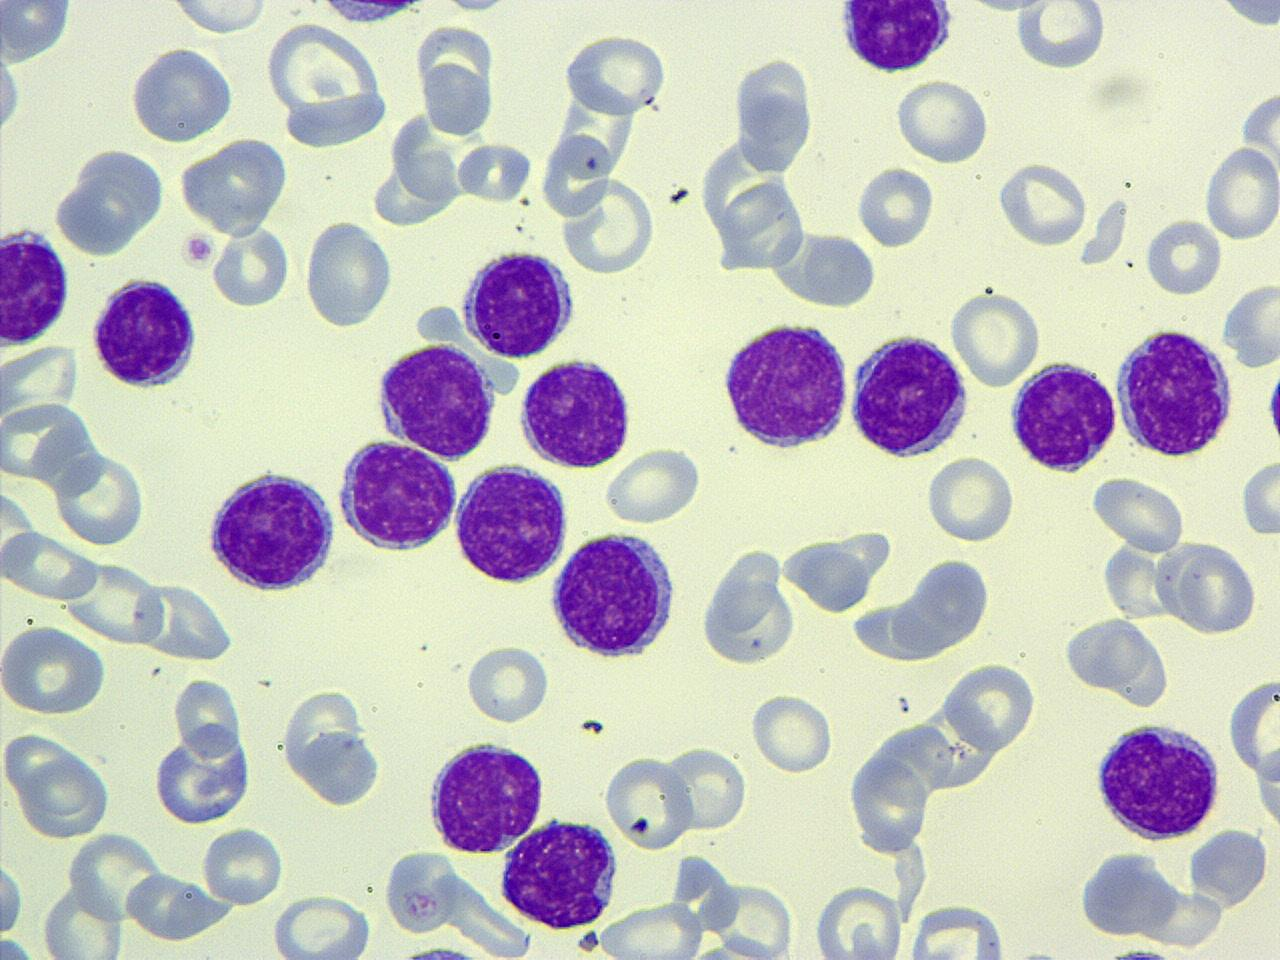Platelets: (180, 228, 217, 269), (400, 941, 472, 960), (1264, 364, 1280, 447), (0, 932, 38, 960), (1107, 942, 1165, 960), (1016, 941, 1062, 960), (578, 929, 602, 953)
RBC: (822, 0, 1280, 361), (264, 14, 392, 148), (282, 678, 391, 810), (700, 544, 804, 662), (176, 134, 293, 238), (126, 42, 242, 146), (730, 53, 818, 176), (0, 622, 110, 719), (302, 218, 396, 329), (560, 172, 658, 277), (415, 17, 498, 137), (946, 287, 1044, 388), (65, 828, 164, 926), (560, 29, 670, 118), (60, 555, 167, 645), (134, 575, 238, 665), (943, 658, 1040, 754), (52, 450, 148, 547), (711, 182, 810, 274), (600, 752, 692, 851), (846, 750, 928, 856), (925, 452, 1017, 545), (894, 75, 988, 164), (994, 159, 1090, 247), (602, 445, 703, 526), (1087, 472, 1187, 553), (18, 753, 112, 839), (1176, 541, 1260, 636), (1201, 141, 1280, 243), (663, 742, 750, 833), (0, 398, 94, 481), (463, 640, 552, 725), (853, 162, 939, 249), (812, 880, 906, 960), (1186, 824, 1272, 911), (382, 846, 462, 938), (750, 690, 834, 776), (200, 824, 284, 908), (211, 221, 291, 309), (0, 530, 99, 602), (712, 878, 797, 960), (539, 128, 613, 223), (271, 892, 376, 958), (1226, 670, 1280, 790), (596, 899, 703, 960), (39, 884, 124, 960), (171, 674, 245, 760), (1142, 217, 1222, 296), (1012, 2, 1109, 68), (906, 901, 1010, 960), (1, 341, 83, 416), (1, 728, 78, 802), (1221, 277, 1280, 371), (456, 137, 534, 204), (1, 1, 79, 67), (165, 0, 274, 39), (1238, 454, 1280, 541), (0, 484, 37, 582), (0, 34, 24, 154), (0, 849, 25, 939), (1212, 0, 1280, 30)
WBC: (546, 525, 684, 663), (719, 316, 853, 456), (204, 464, 340, 595), (1089, 714, 1227, 843), (263, 16, 394, 150), (1110, 324, 1238, 460), (846, 328, 974, 460), (372, 337, 504, 461), (450, 458, 572, 586), (424, 734, 549, 856), (335, 436, 461, 554), (516, 352, 640, 471), (497, 816, 622, 933), (52, 144, 174, 259), (460, 244, 580, 360), (1007, 357, 1121, 476), (90, 272, 204, 390), (699, 541, 799, 669), (282, 690, 386, 810), (126, 43, 239, 148), (151, 718, 256, 826), (181, 135, 291, 237), (730, 56, 820, 178), (1074, 844, 1182, 940), (0, 222, 76, 347), (1228, 661, 1280, 838), (835, 0, 959, 73), (382, 846, 462, 938), (280, 0, 447, 30), (0, 0, 77, 66)
